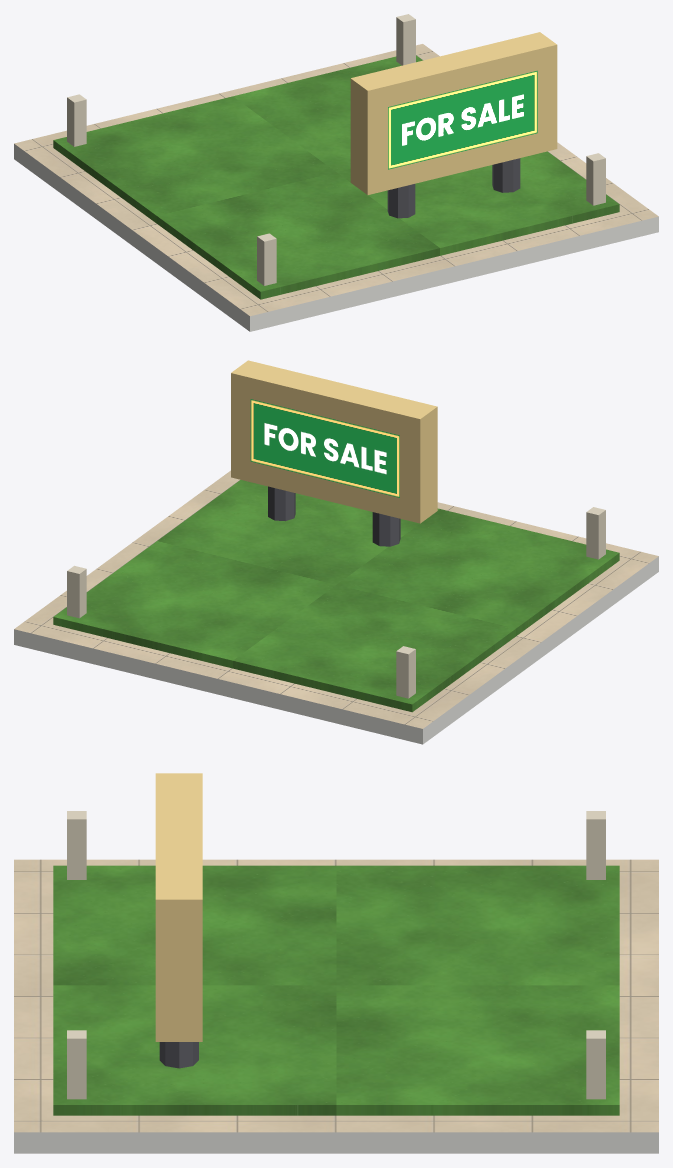
Rendered from dev_0_lot.glb.
3 renders of one model, top to bottom at view 1: azimuth 30°, elevation 25°; view 2: azimuth 150°, elevation 25°; view 3: azimuth 270°, elevation 25°, orthographic. The views are drawn at different scales.
Parts seen in each view (by area): view 1: dev_0_lot__grass, dev_0_lot__gold, dev_0_lot__paving_warm, dev_0_lot__white, dev_0_lot__label_forsale, dev_0_lot__wood, dev_0_lot__lamp_metal; view 2: dev_0_lot__grass, dev_0_lot__paving_warm, dev_0_lot__gold, dev_0_lot__white, dev_0_lot__label_forsale, dev_0_lot__wood, dev_0_lot__lamp_metal; view 3: dev_0_lot__grass, dev_0_lot__paving_warm, dev_0_lot__white, dev_0_lot__gold, dev_0_lot__wood, dev_0_lot__lamp_metal.
Part boxes in pixels (left/top/right/bottom): dev_0_lot__grass: left=53, top=55, right=619, bottom=299; dev_0_lot__gold: left=350, top=32, right=557, bottom=194; dev_0_lot__paving_warm: left=14, top=44, right=658, bottom=316; dev_0_lot__white: left=14, top=144, right=658, bottom=331; dev_0_lot__label_forsale: left=388, top=70, right=537, bottom=169; dev_0_lot__wood: left=67, top=14, right=605, bottom=285; dev_0_lot__lamp_metal: left=387, top=158, right=520, bottom=218; dev_0_lot__grass: left=53, top=480, right=619, bottom=712; dev_0_lot__paving_warm: left=14, top=470, right=658, bottom=728; dev_0_lot__gold: left=231, top=360, right=437, bottom=523; dev_0_lot__white: left=14, top=556, right=658, bottom=744; dev_0_lot__label_forsale: left=250, top=399, right=399, bottom=497; dev_0_lot__wood: left=67, top=507, right=605, bottom=698; dev_0_lot__lamp_metal: left=268, top=486, right=400, bottom=546; dev_0_lot__grass: left=53, top=865, right=619, bottom=1115; dev_0_lot__paving_warm: left=14, top=859, right=658, bottom=1132; dev_0_lot__white: left=14, top=1132, right=658, bottom=1153; dev_0_lot__gold: left=155, top=773, right=202, bottom=1041; dev_0_lot__wood: left=67, top=811, right=605, bottom=1099; dev_0_lot__lamp_metal: left=159, top=1042, right=198, bottom=1068.
Bounding box in the file's own units: 0.82 × 0.31 × 0.82.
Materials: 7 (3 with a texture image).
